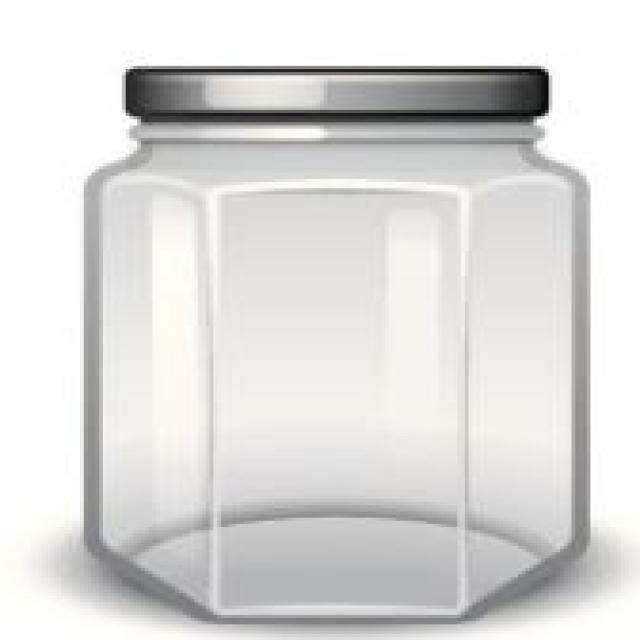electronic: (84, 62, 592, 627)
